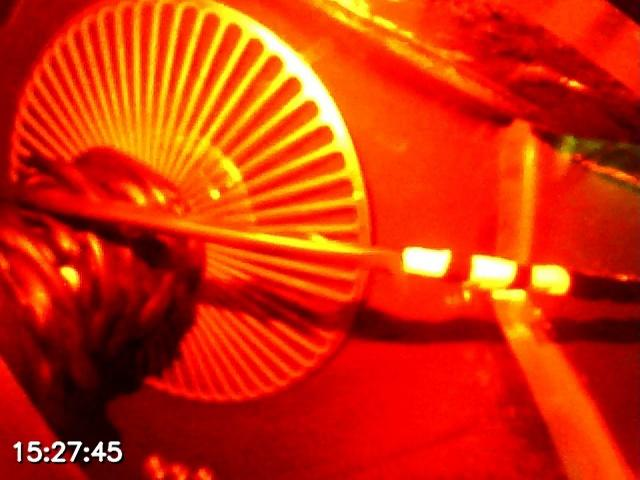white-dots: (400, 245, 570, 293)
